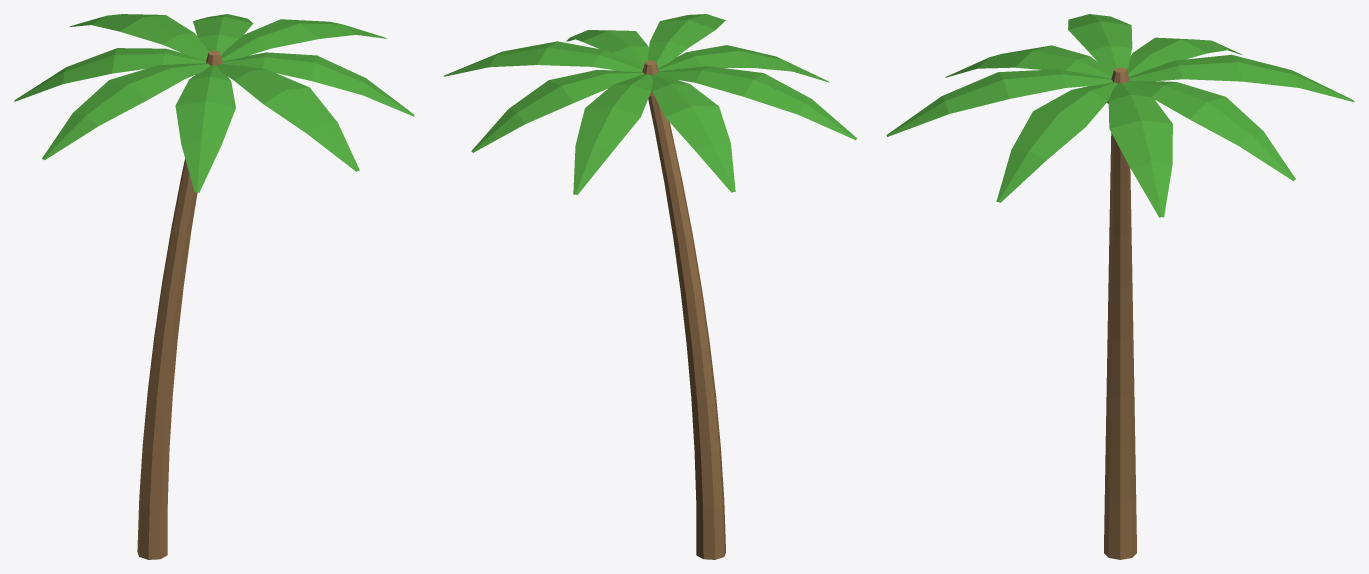
File: tree_palm.glb
3 views of the same model, side by side, from view 1: azimuth 30°, elevation 25°; view 2: azimuth 150°, elevation 25°; view 3: azimuth 270°, elevation 25° (orthographic). The views are drawn at different scales.
Parts seen in each view (by area): view 1: tree_palm; view 2: tree_palm; view 3: tree_palm.
Boxes of the visible parts, x1,y1,x2,y2 form: tree_palm: [14, 14, 414, 559]; tree_palm: [443, 14, 856, 559]; tree_palm: [886, 14, 1354, 559].
Size of the model in its own units: 9.89 by 12 by 9.89.
